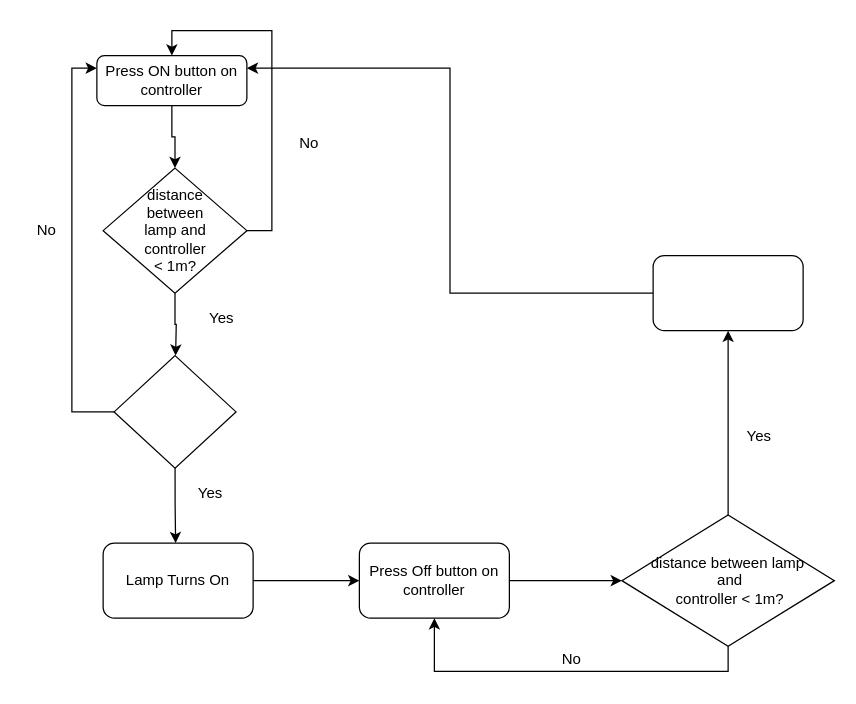
Some shapes in this 856 by 704 pixel diagram are drawn without their labels. Here are the shapes that lost their labels. From the top down, the centre of each, then its label:
At (x=727, y=292): "Lamp Turns Off".
At (x=174, y=411): "Is lightbulb ok?".
